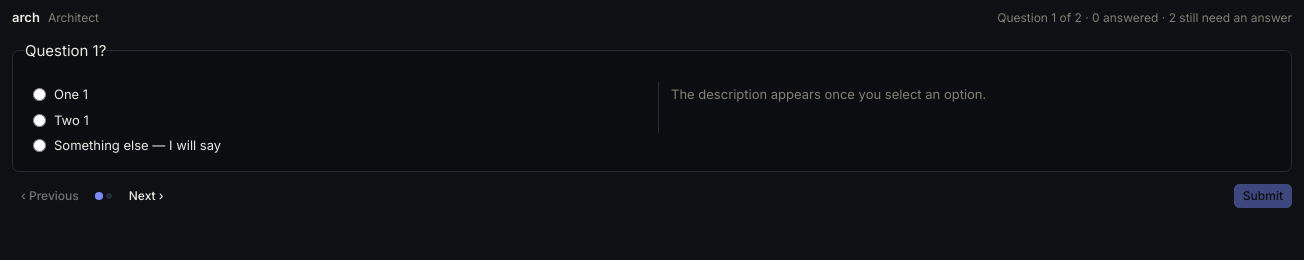
it: the two rails of a described set › DQA-FR-USTA: choosing the own answer hides the rail, and an option hovered shows it again
Step 1. Click the radio button labelled "One 1" → (40, 95), box [33,88,46,101]
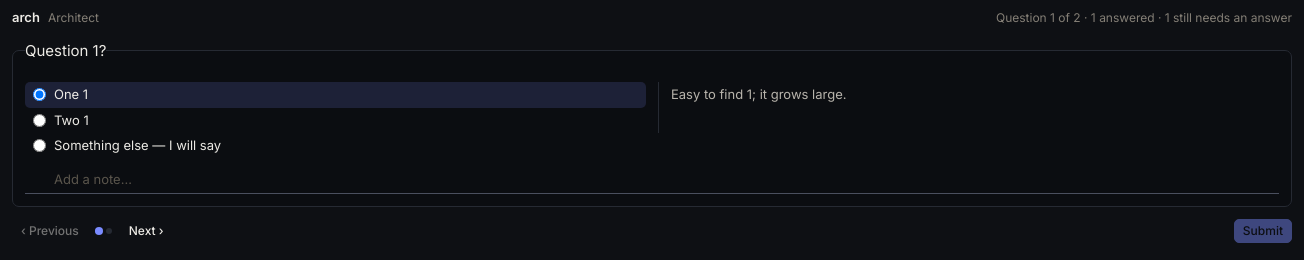
Step 2. Click the radio button labelled "Something else — I will say" → (40, 146), box [33,139,46,152]
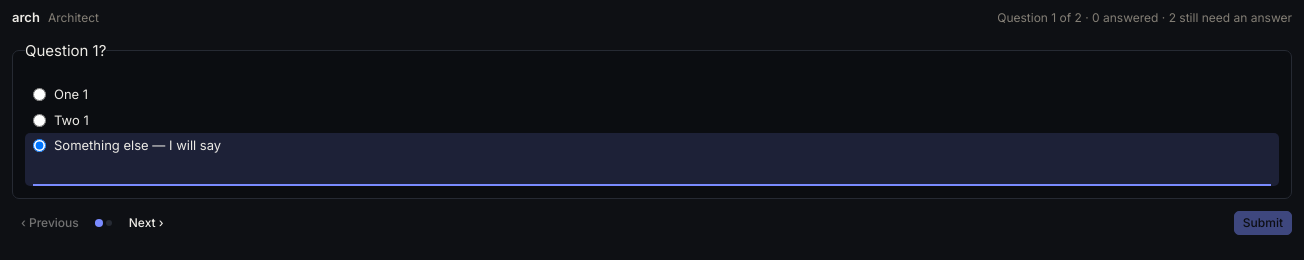
Step 3. Hover over the text "Two 1" → (61, 120), box [33,112,89,128]
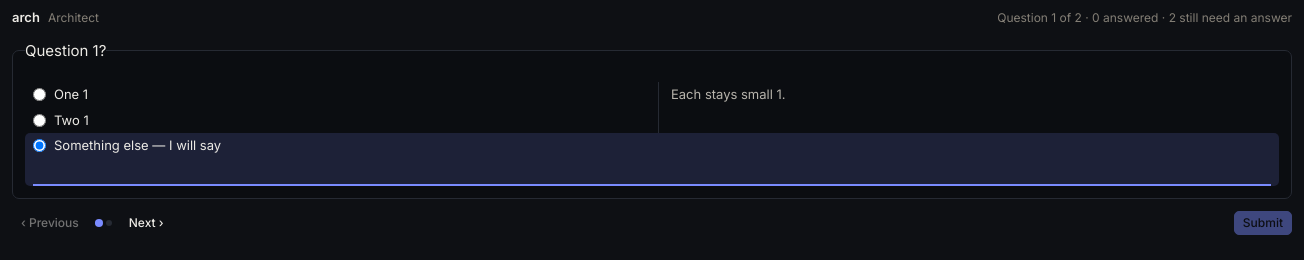
Now the text "Each stays small 1." is shown, box [671,86,786,102]
Step 4. Move the pointer off the text "Two 1", box [33,112,89,128]
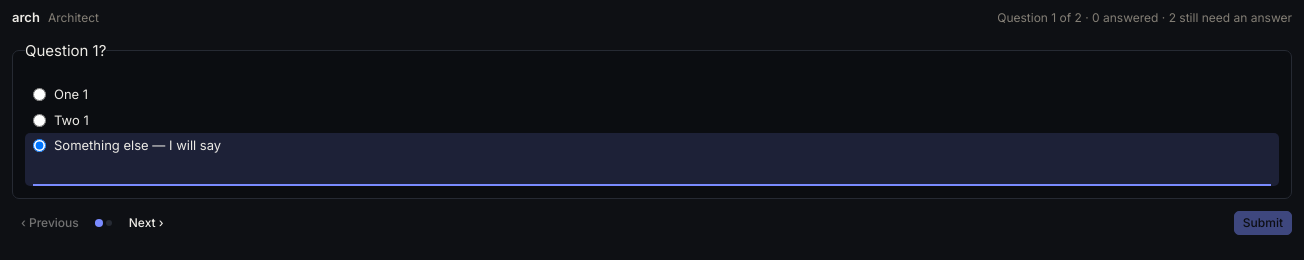
# Choosing an option again brings the rail back with that option.
Step 5. Click the radio button labelled "Two 1" → (40, 120), box [33,114,46,127]
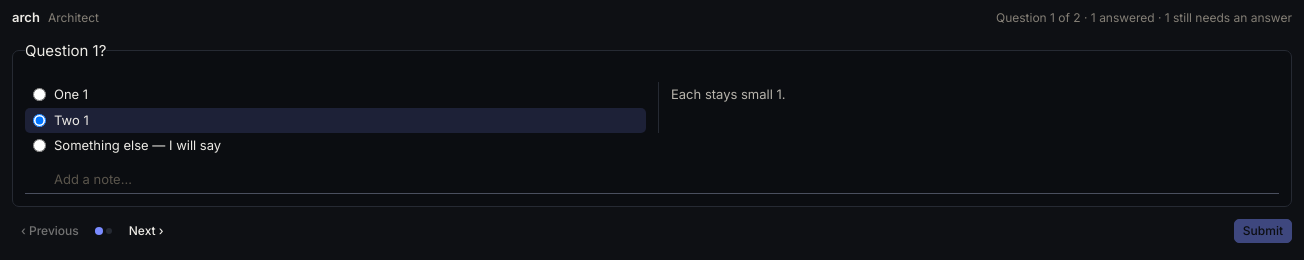
Now the text "Each stays small 1." is shown, box [671,86,786,102]
